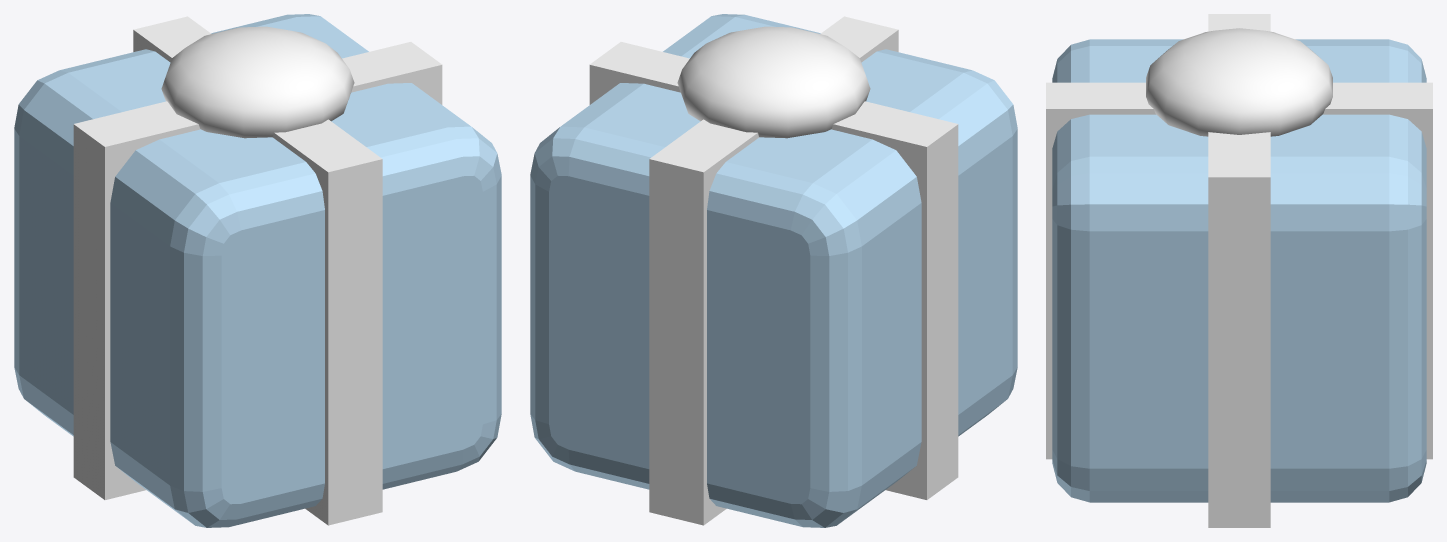
3 views of the same model, side by side, from view 1: azimuth 30°, elevation 25°; view 2: azimuth 150°, elevation 25°; view 3: azimuth 270°, elevation 25° (orthographic).
Visible parts, largest first — view 1: box_ad; view 2: box_ad; view 3: box_ad.
Boxes of the visible parts, x1,y1,x2,y2 form: box_ad: [14, 14, 501, 527]; box_ad: [530, 14, 1017, 527]; box_ad: [1046, 14, 1432, 527].
Size of the model in its own units: 1.24 by 1.42 by 1.24.
